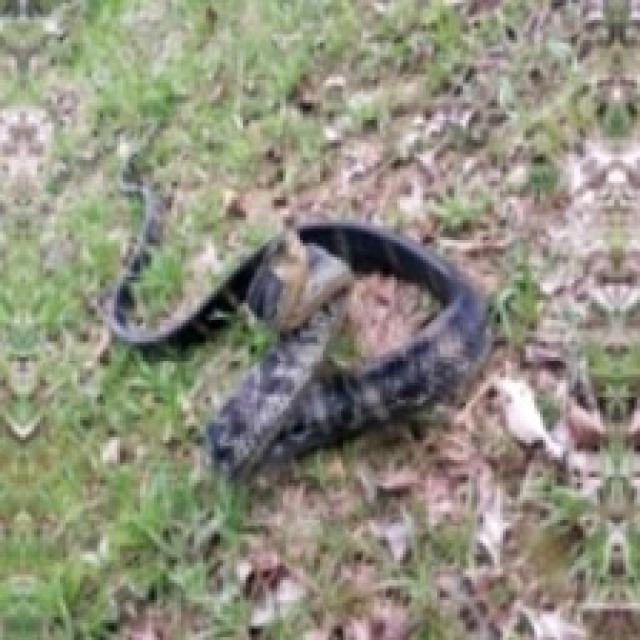dog-toothed cat snake: (106, 223, 486, 474)
